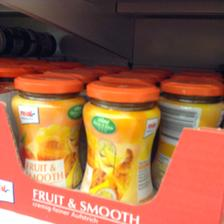Marmelade: (82, 79, 162, 203), (8, 73, 83, 189), (150, 76, 223, 188)
